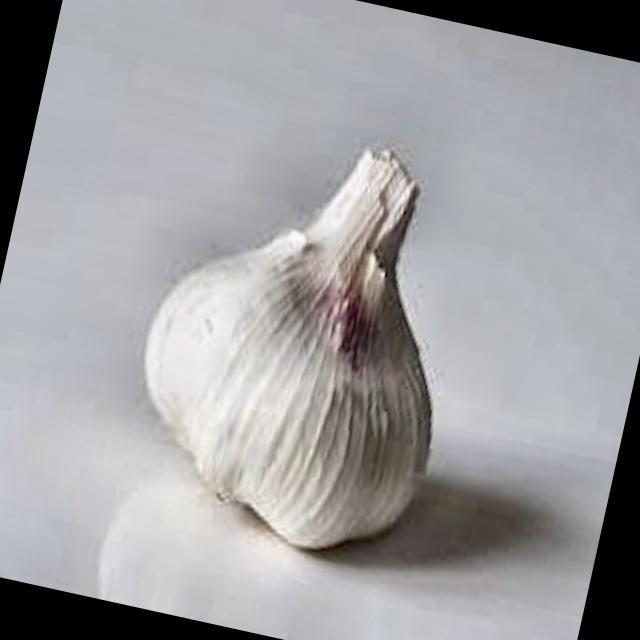garlic: (145, 150, 430, 549)
